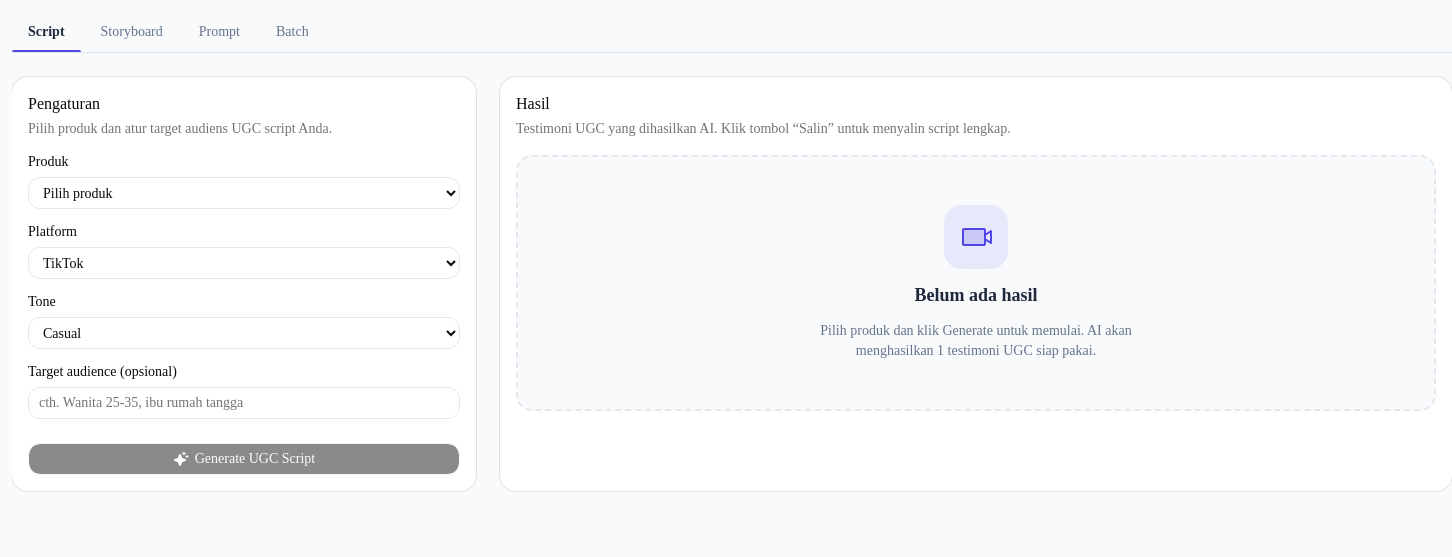
Scenario: UgcGenerator › renders Batch results: one card per product with the product name as header
Click the tab "Batch" at point(292, 32), box left=260, top=12, right=325, bottom=52
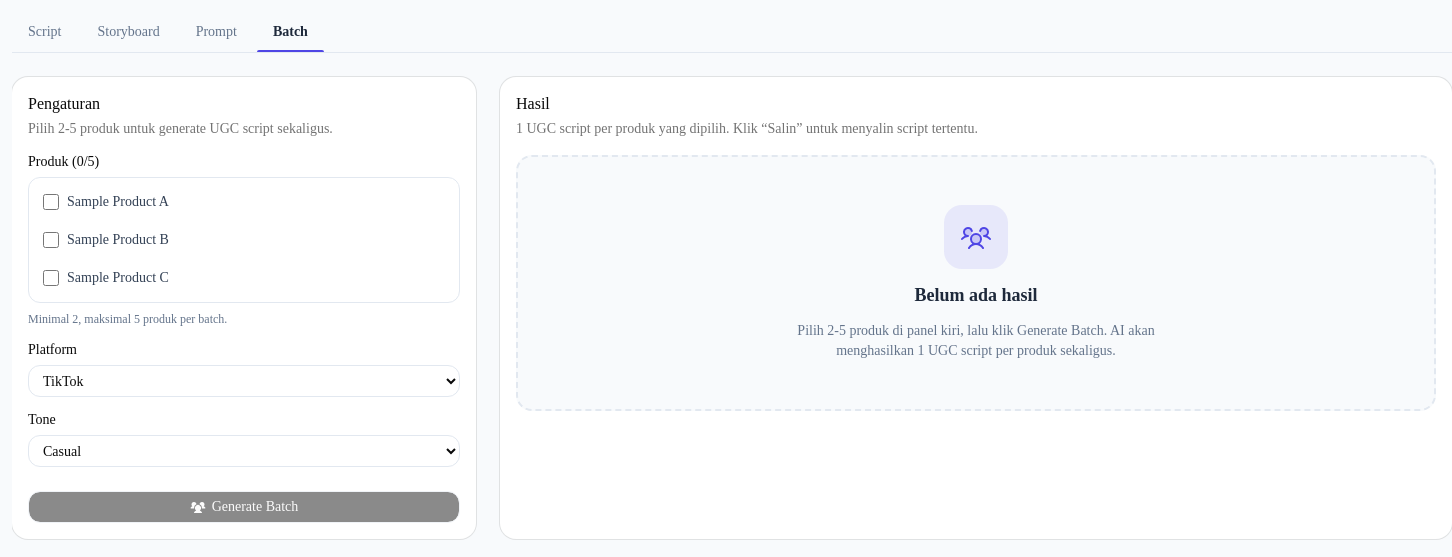
expect the checkbox labelled "Sample Product A" is shown: met
# Select 2 products.
Click the checkbox labelled "Sample Product A" at point(51, 202), box left=43, top=194, right=59, bottom=210
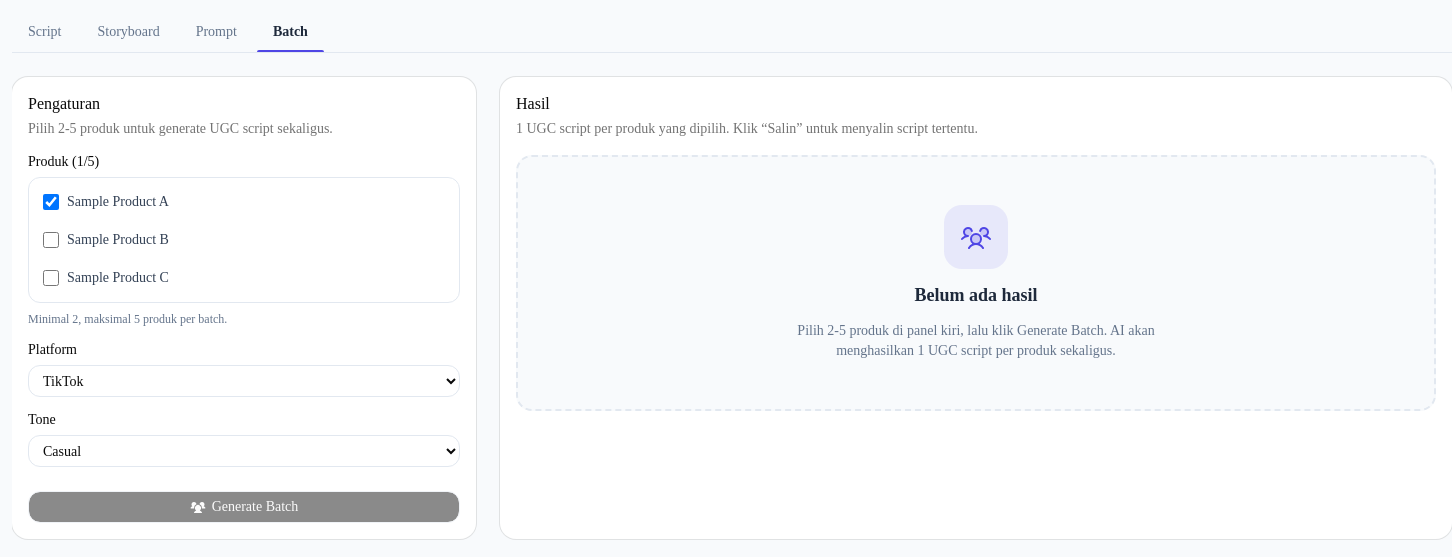
Click the checkbox labelled "Sample Product B" at point(51, 240), box left=43, top=232, right=59, bottom=248
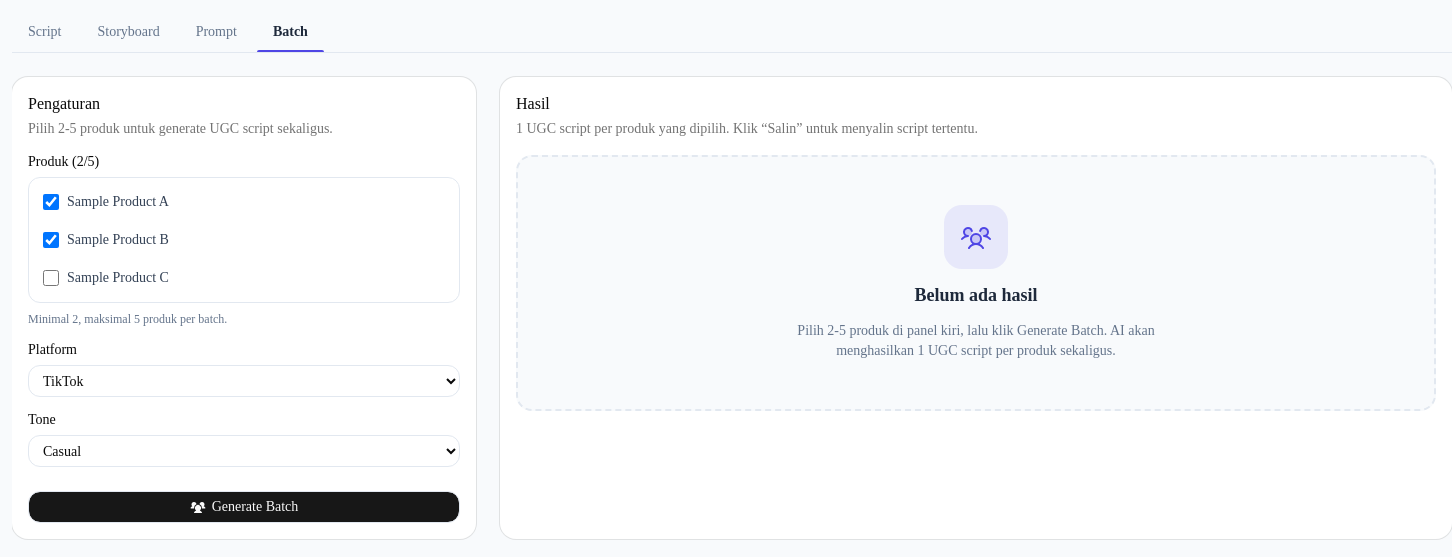
Click the button "Generate Batch" at point(244, 507), box left=28, top=491, right=460, bottom=523
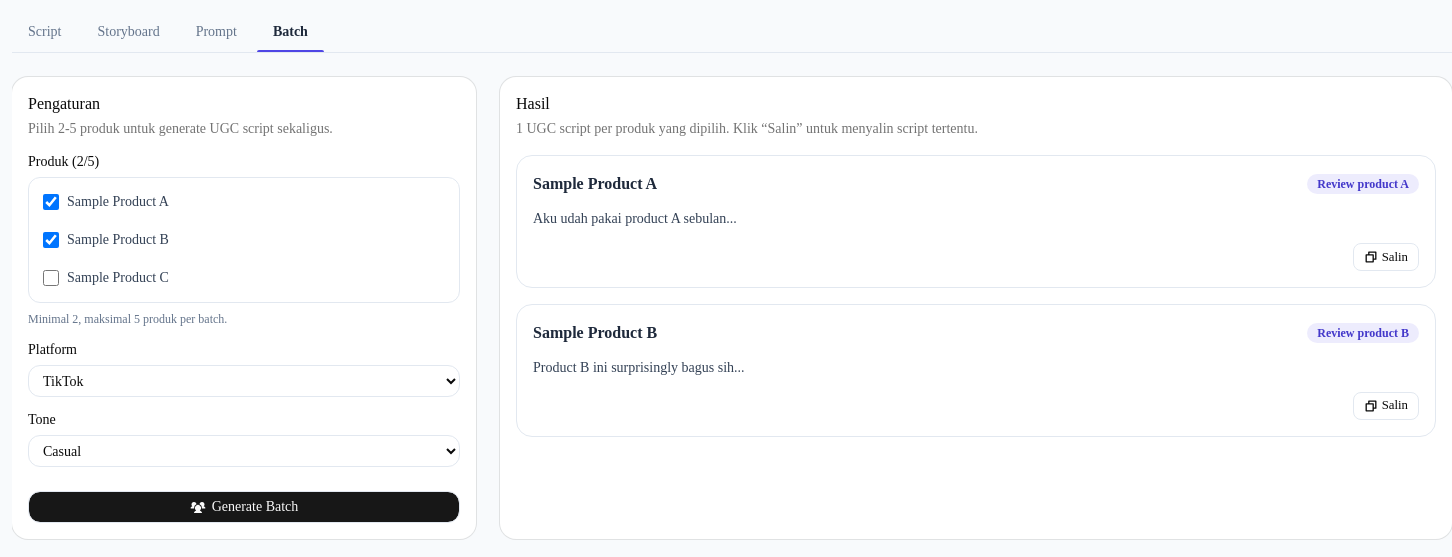
expect the number of list items with test id "ugc-batch-card" is 2: met, box left=516, top=155, right=1436, bottom=288; left=516, top=304, right=1436, bottom=437
